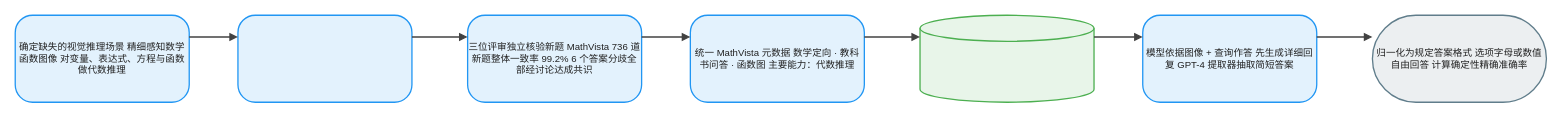
Image size: 1563x118. Some labels were removed from this diagram. Each missing label, with the centre of its shape:
"STEM 研究生人工编写题目 组合函数图、问题与答案 形成 400 道 FunctionQA" goes at point (324, 58).
"在 MathVista 中发布 FunctionQA 400 道视觉代数问题 随 MathVista 划入 testmini/test，测试答案隐藏" goes at point (1006, 58).
